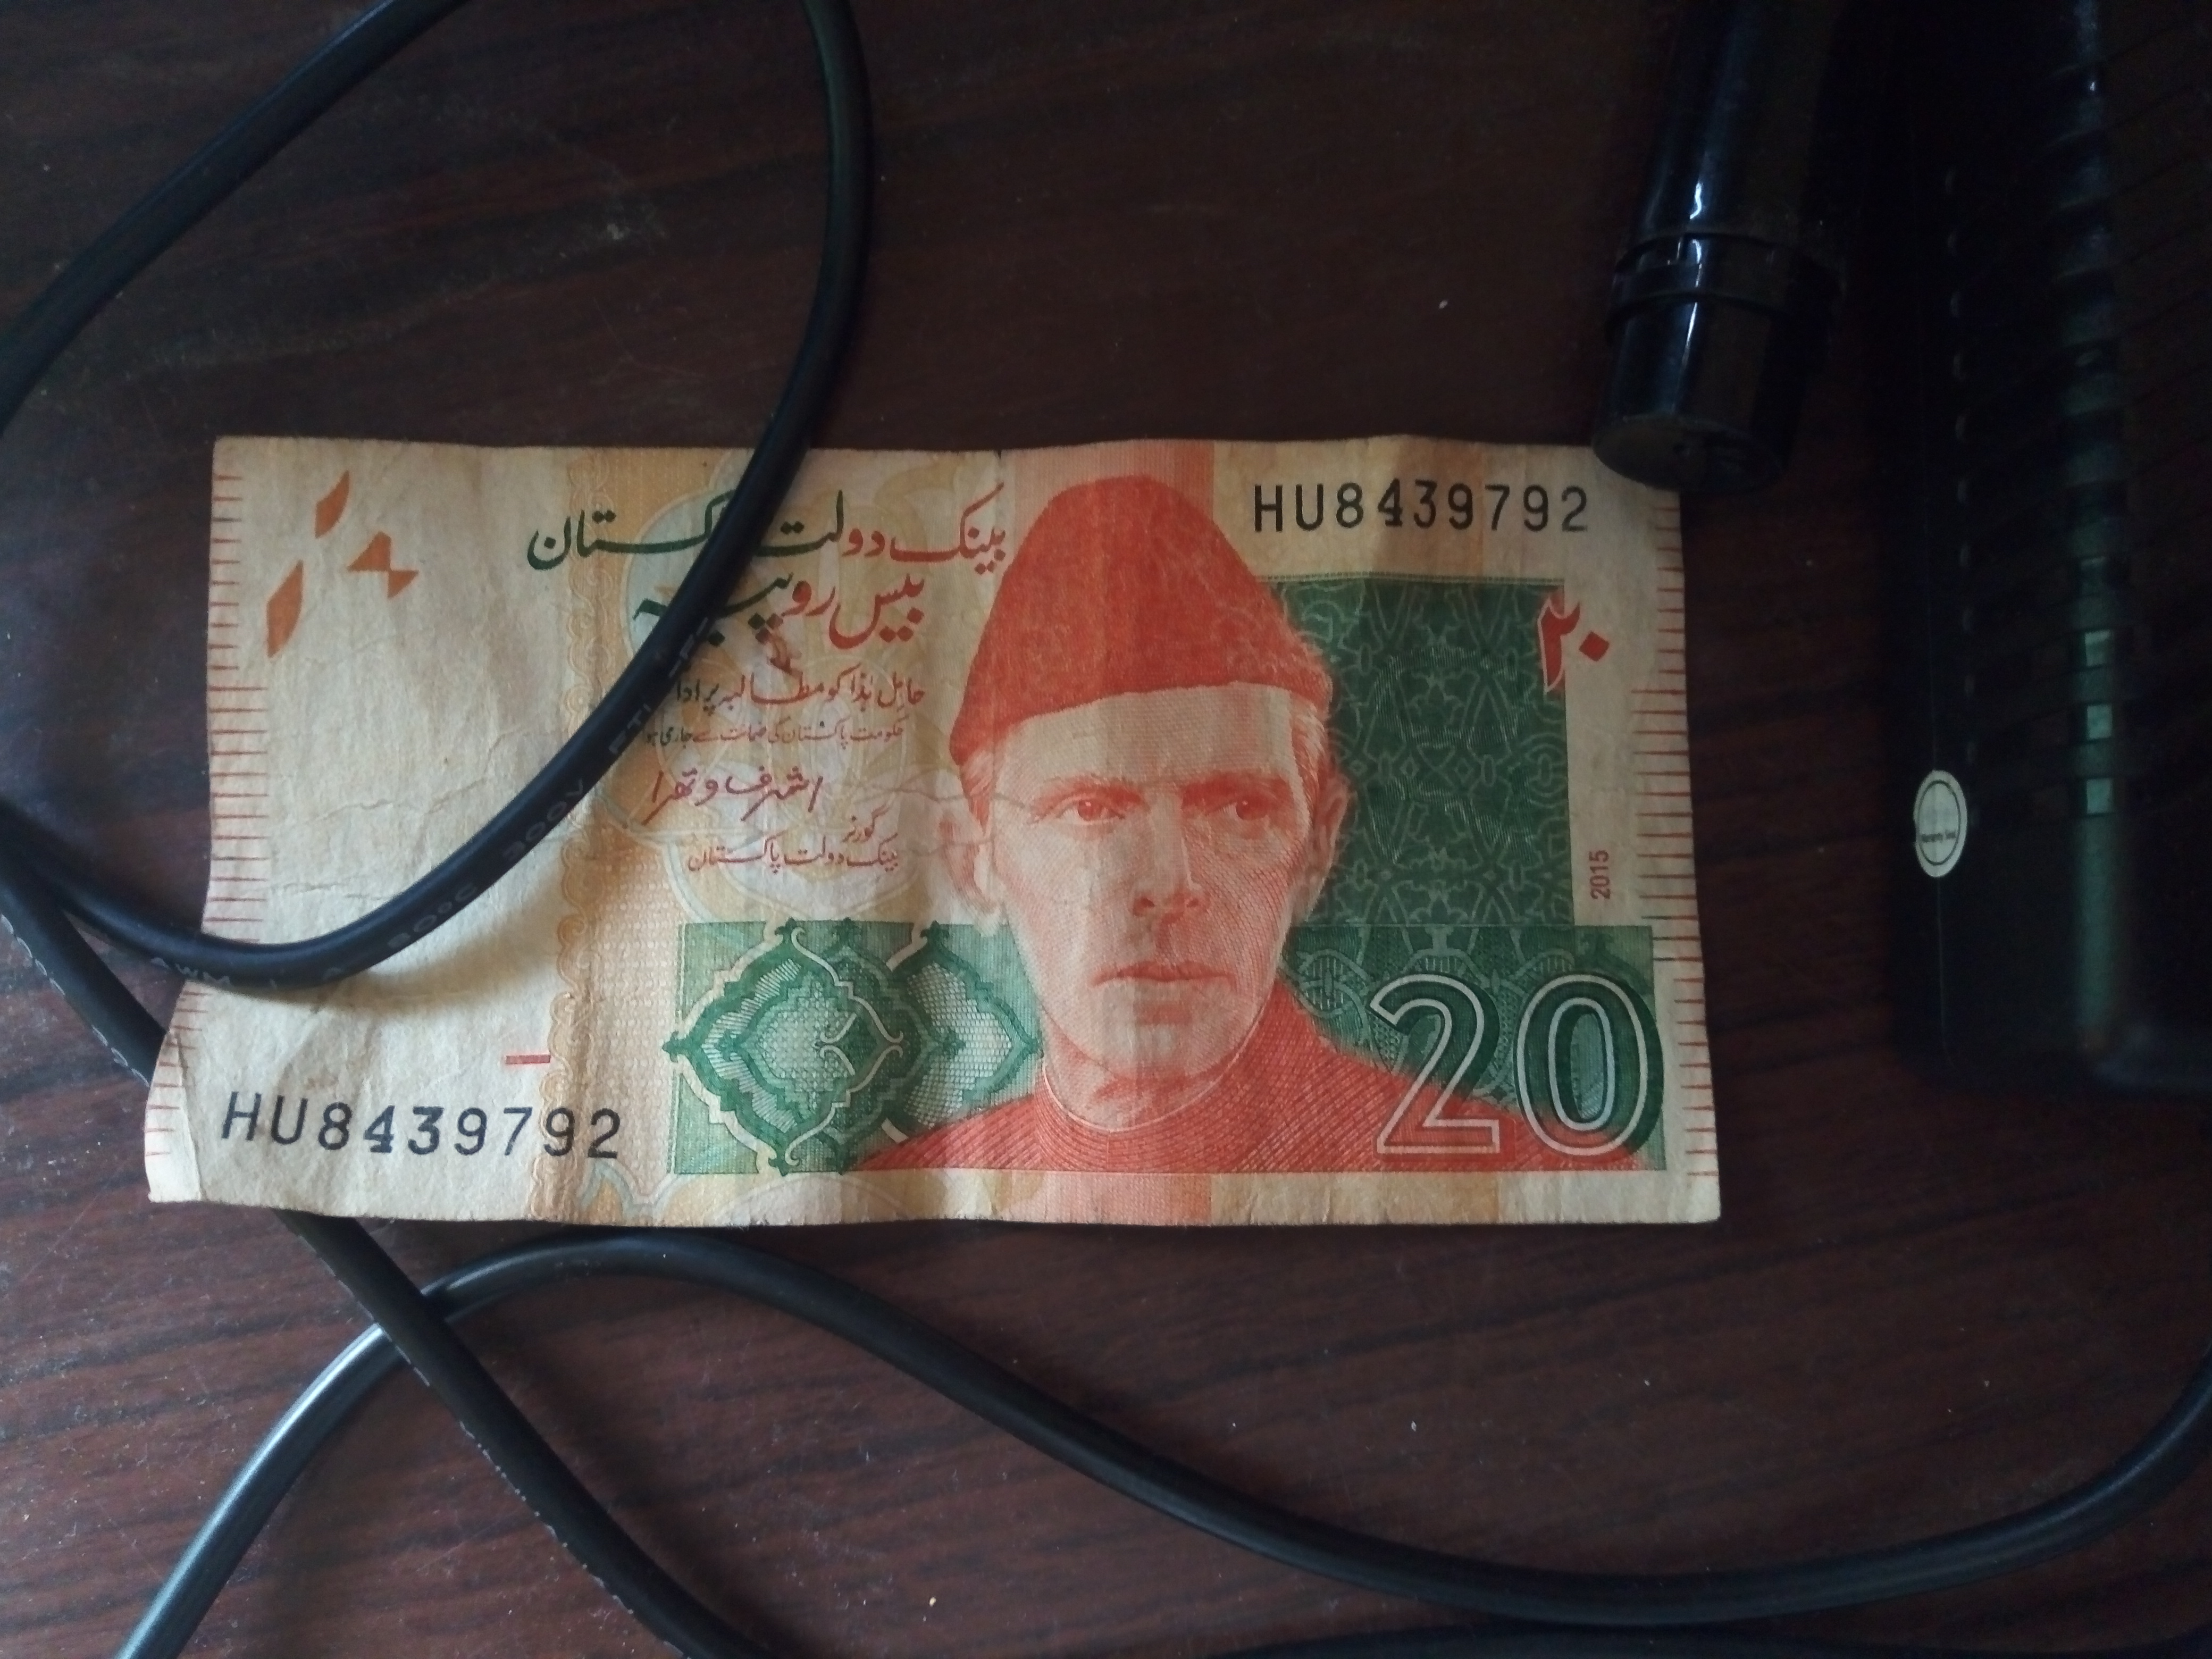20 rupee: (105, 364, 1773, 1246)
